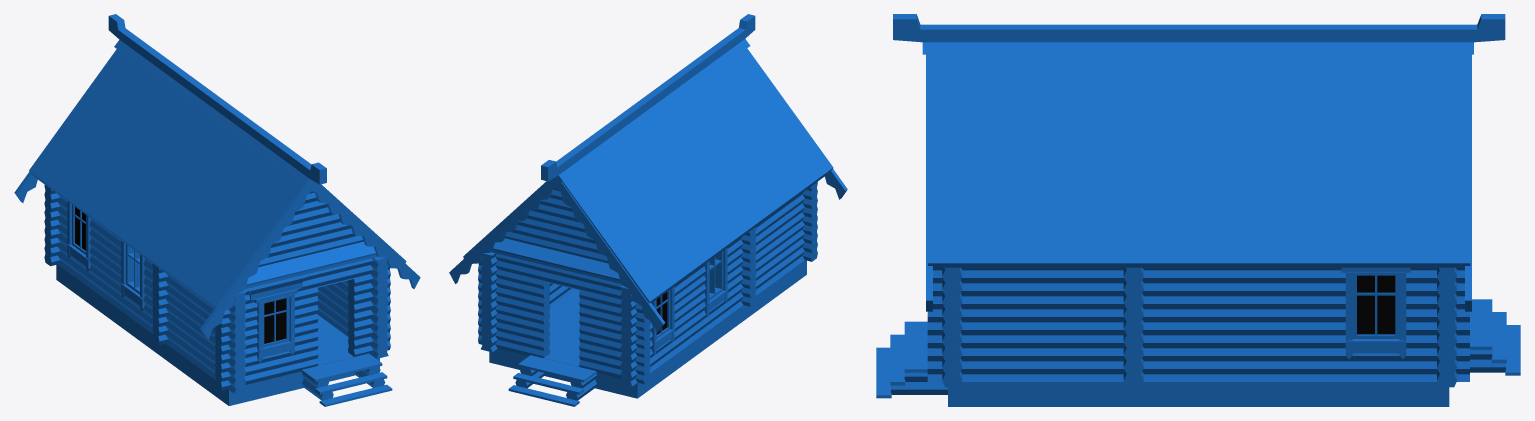
Rendered from SM_house_1.fbx.
3 renders of one model, left to right at view 1: azimuth 30°, elevation 25°; view 2: azimuth 150°, elevation 25°; view 3: azimuth 270°, elevation 25°, orthographic. The views are drawn at different scales.
Parts seen in each view (by area): view 1: Cube_2; view 2: Cube_2; view 3: Cube_2.
Boxes of the visible parts, <box> form: Cube_2: <box>14,14,420,406</box>; Cube_2: <box>449,14,847,406</box>; Cube_2: <box>876,14,1520,406</box>.
Size of the model in its own units: 541 by 550 by 954.
